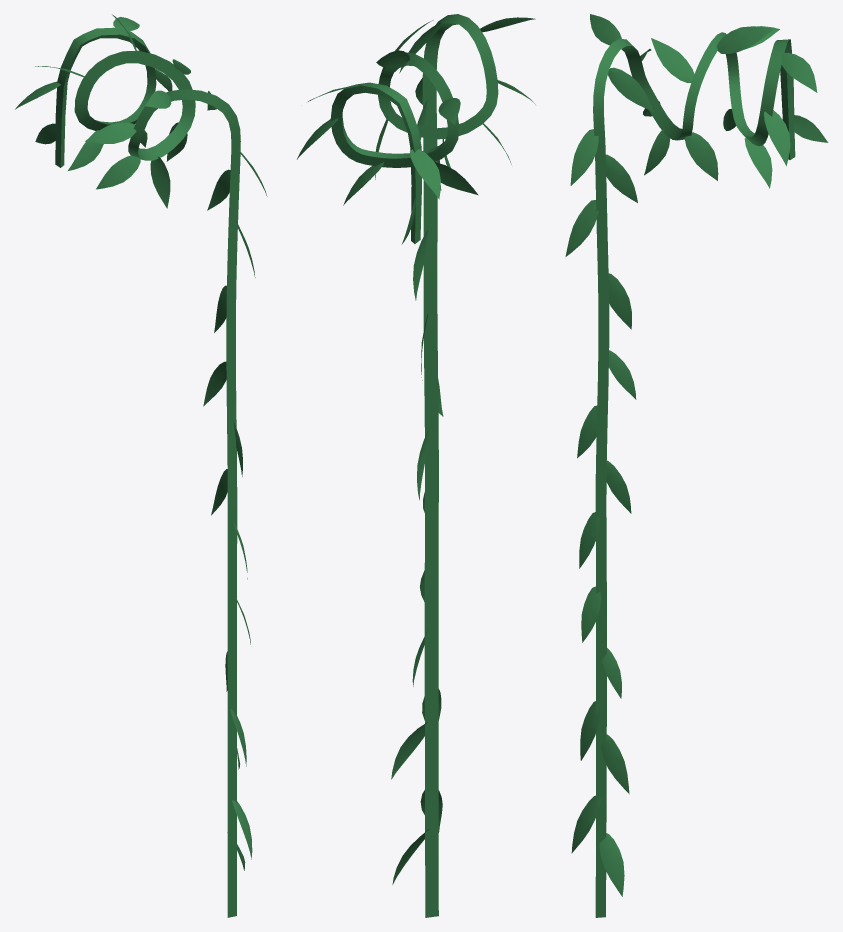
File: vine_K_scanden.fbx
The picture shows the model from 3 angles, left to right: view 1: azimuth 30°, elevation 25°; view 2: azimuth 150°, elevation 25°; view 3: azimuth 270°, elevation 25°; orthographic projection. The views are drawn at different scales.
Parts seen in each view (by area): view 1: vine_K_scanden_root, vine_K_scanden_A_leaf_A17, vine_K_scanden_A_leaf_A18, vine_K_scanden_A_leaf_A19, vine_K_scanden_A_leaf_A24; view 2: vine_K_scanden_root, vine_K_scanden_A_leaf_A28, vine_K_scanden_A_leaf_A11, vine_K_scanden_A_leaf_A24; view 3: vine_K_scanden_root, vine_K_scanden_A_leaf_A21, vine_K_scanden_A_leaf_A14, vine_K_scanden_A_leaf_A22, vine_K_scanden_A_leaf_A20, vine_K_scanden_A_leaf_A15, vine_K_scanden_A_leaf_A12, vine_K_scanden_A_leaf_A7, vine_K_scanden_A_leaf_A11, vine_K_scanden_A_leaf_A26, vine_K_scanden_A_leaf_A1, vine_K_scanden_A_leaf_A (+12 smaller).
Part boxes in pixels (x1=…): vine_K_scanden_root: x1=55, y1=27, x2=240, y2=917; vine_K_scanden_A_leaf_A17: x1=96, y1=155, x2=140, y2=189; vine_K_scanden_A_leaf_A18: x1=85, y1=122, x2=136, y2=143; vine_K_scanden_A_leaf_A19: x1=150, y1=156, x2=170, y2=208; vine_K_scanden_A_leaf_A24: x1=68, y1=130, x2=103, y2=170; vine_K_scanden_root: x1=330, y1=14, x2=498, y2=917; vine_K_scanden_A_leaf_A28: x1=410, y1=149, x2=440, y2=199; vine_K_scanden_A_leaf_A11: x1=391, y1=722, x2=427, y2=779; vine_K_scanden_A_leaf_A24: x1=434, y1=161, x2=478, y2=195; vine_K_scanden_root: x1=593, y1=32, x2=795, y2=917; vine_K_scanden_A_leaf_A21: x1=716, y1=26, x2=773, y2=53; vine_K_scanden_A_leaf_A14: x1=599, y1=833, x2=624, y2=896; vine_K_scanden_A_leaf_A22: x1=651, y1=38, x2=694, y2=82; vine_K_scanden_A_leaf_A20: x1=684, y1=132, x2=718, y2=180; vine_K_scanden_A_leaf_A15: x1=608, y1=67, x2=653, y2=111; vine_K_scanden_A_leaf_A12: x1=570, y1=129, x2=598, y2=185; vine_K_scanden_A_leaf_A7: x1=565, y1=200, x2=598, y2=256; vine_K_scanden_A_leaf_A11: x1=601, y1=734, x2=629, y2=794; vine_K_scanden_A_leaf_A26: x1=764, y1=110, x2=790, y2=166; vine_K_scanden_A_leaf_A1: x1=608, y1=273, x2=631, y2=329; vine_K_scanden_A_leaf_A: x1=605, y1=154, x2=637, y2=202.
Bounding box in the file's own units: 64.48 × 342 × 93.58.
